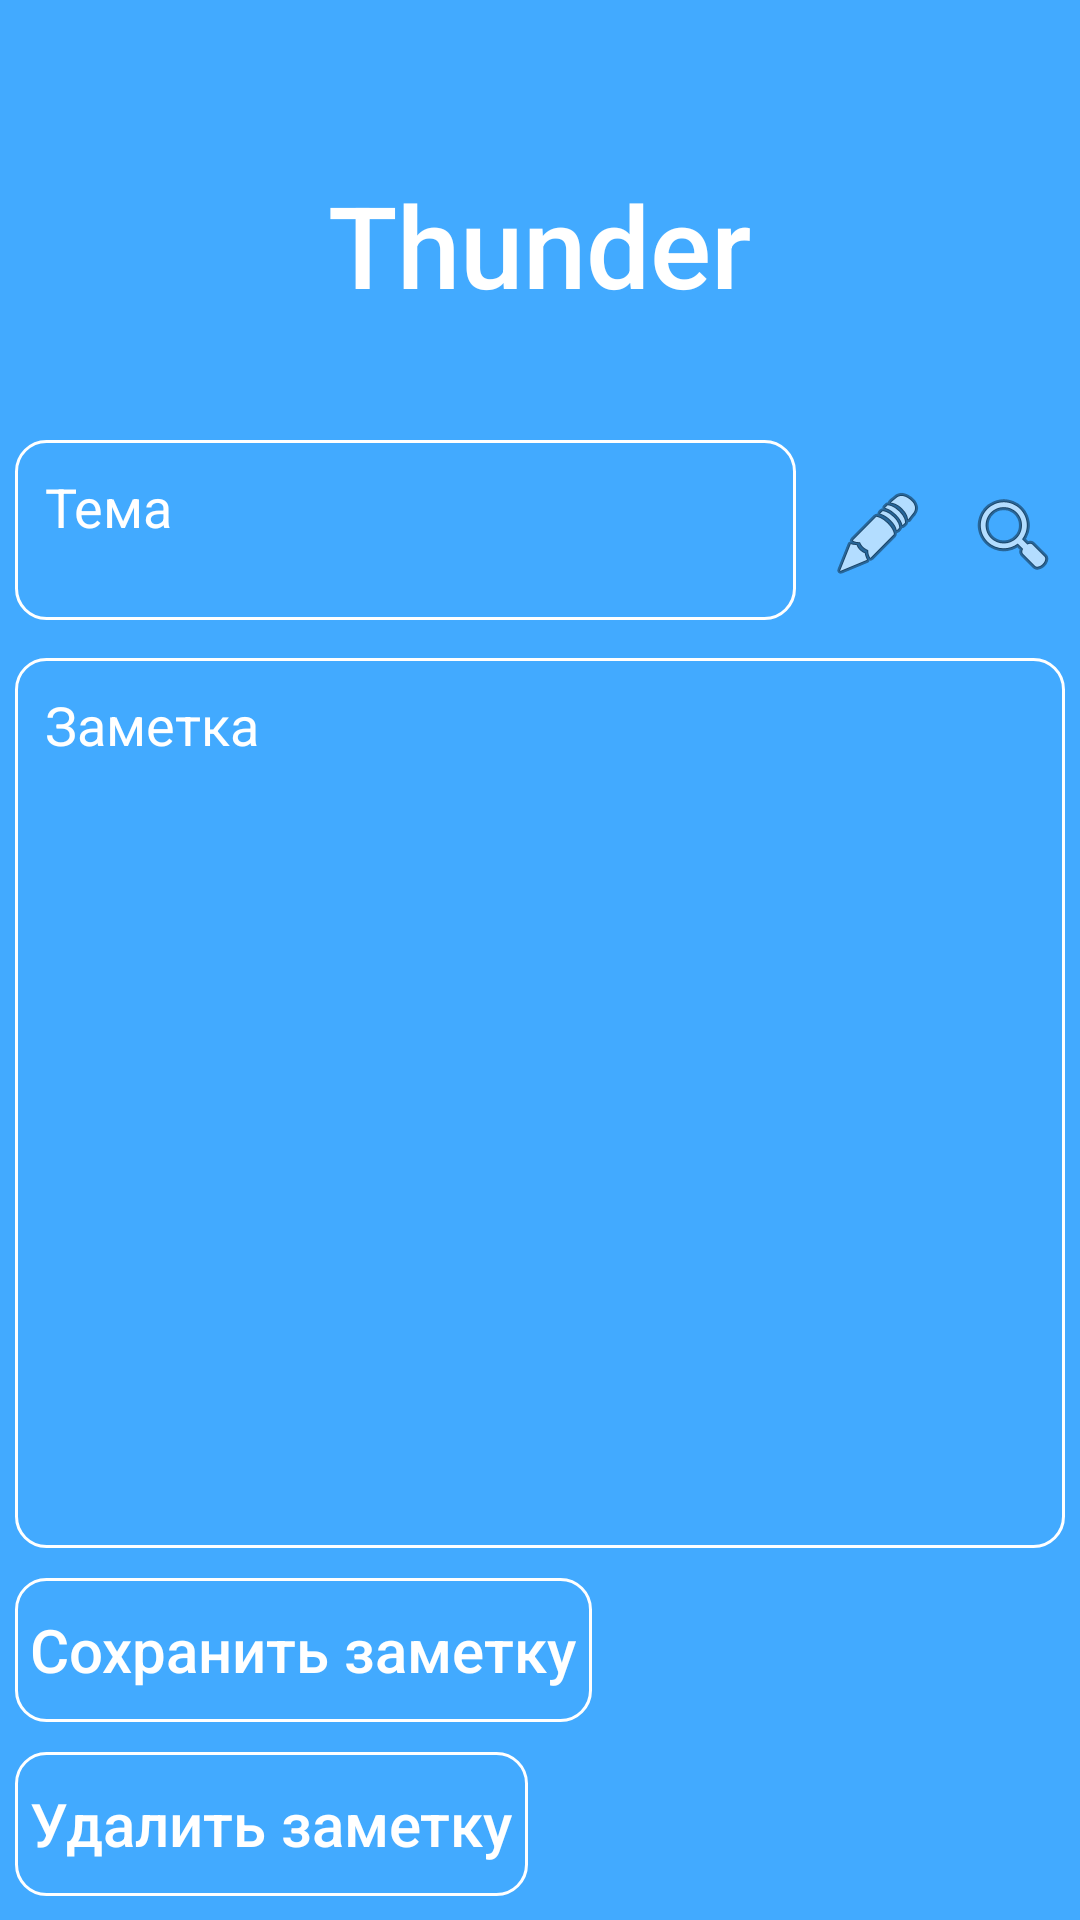

Where to tap for icons on this 1080 x 1920 app screen, as [x,y]:
edit: [877,533]
search: [1013,534]
